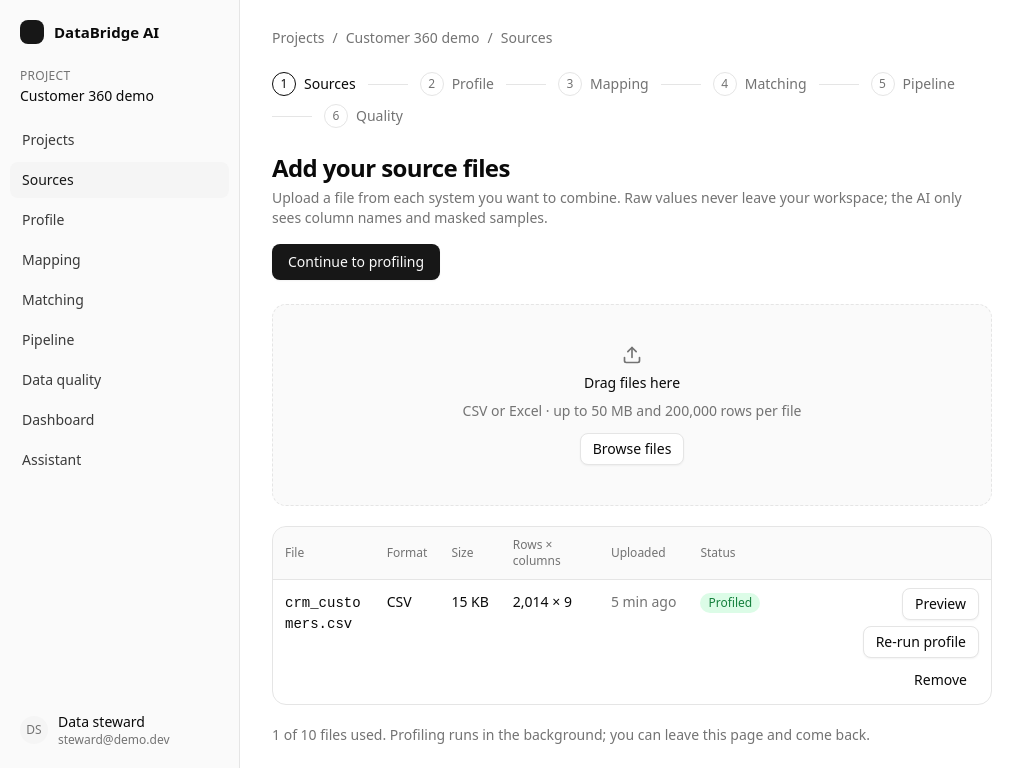
Test: sources page › re-runs a profile and explains when one is already running
Click the button with aria-label "Re-run profile of crm_customers.csv" at x=921, y=642, box top-left (863, 626), bottom-right (979, 658)
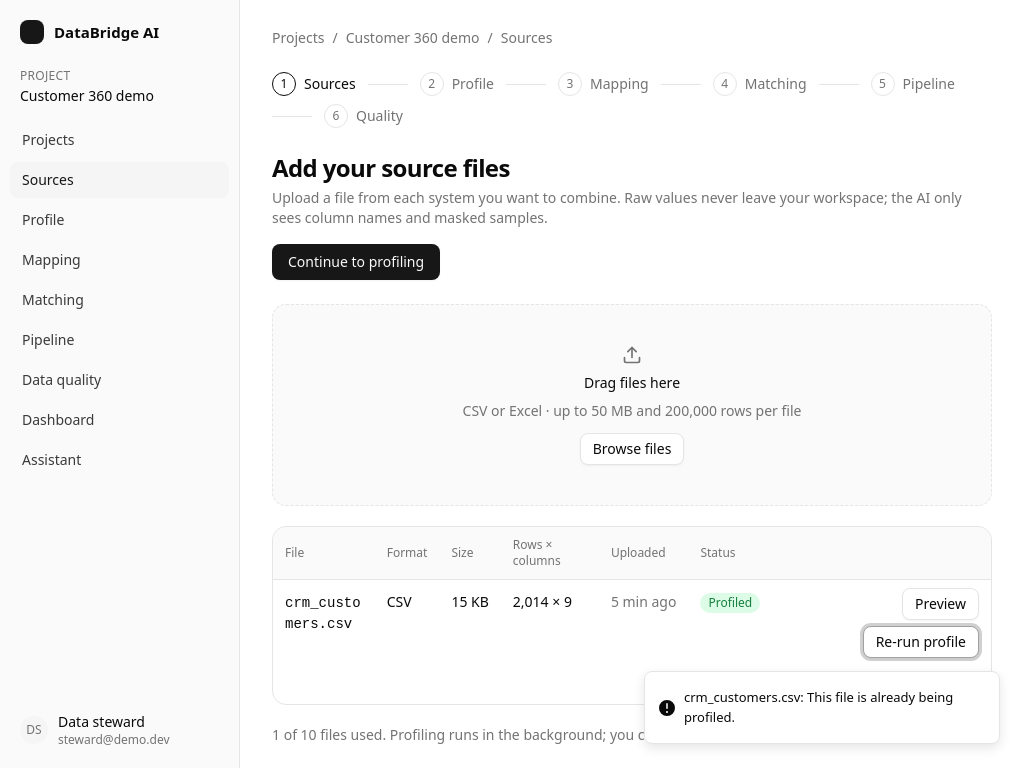
Now the text "crm_customers.csv: This file is already being profiled." is shown, box top-left (684, 688), bottom-right (983, 727)
